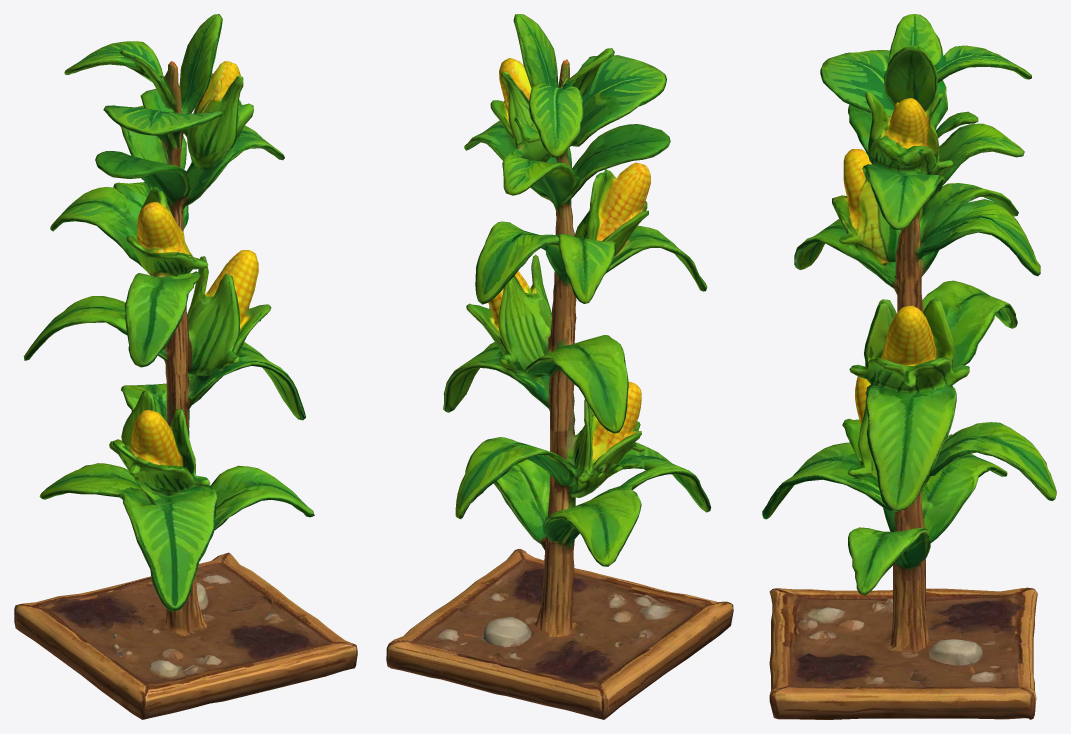
The model's file is corn.glb.
The picture shows the model from 3 angles, left to right: view 1: azimuth 30°, elevation 25°; view 2: azimuth 150°, elevation 25°; view 3: azimuth 270°, elevation 25°; orthographic projection. The views are drawn at different scales.
Size of the model in its own units: 0.7241 by 1.91 by 0.7945.
1 material, 1 textured.
